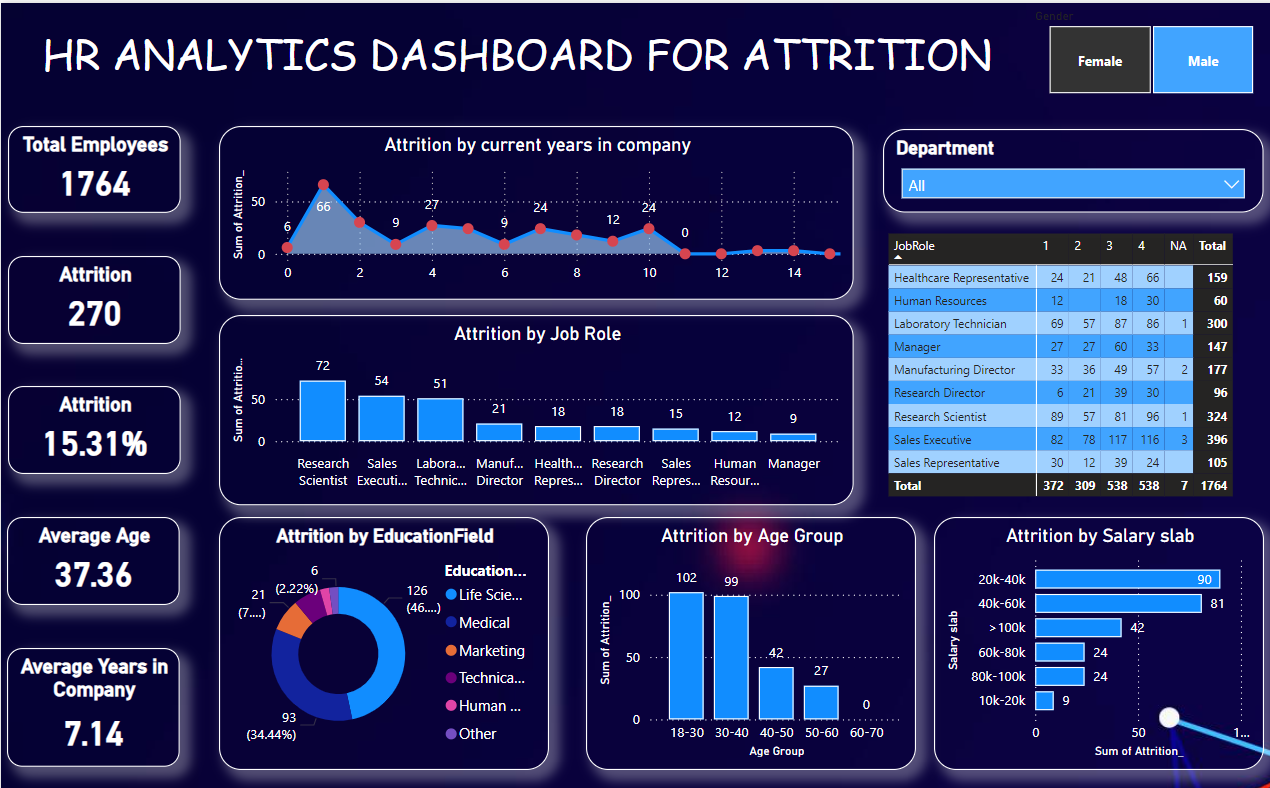

Layout of this report page (visuals, bound fields, positions):
{"tool":"powerbi","page":{"name":"Page 1","canvas":[1280,720],"ordinal":0},"visuals":[{"type":"card","title":"Total Employees","fields":{"Values":["Sum(Attrition data.EmployeeCount)"]},"box":[6.4,111.8,157.3,79.1],"z":0},{"type":"card","title":"Attrition","fields":{"Values":["Sum(Attrition data.Attrition_)"]},"box":[6.4,229.8,157.3,80],"z":1000},{"type":"card","title":"Attrition","fields":{"Values":["Attrition data.Attrition Percentage"]},"box":[6.4,348.6,157.3,80],"z":2000},{"type":"card","title":"Average Age","fields":{"Values":["Avg(Attrition data.Age)"]},"box":[5.5,467.5,157.3,80],"z":3000},{"type":"card","title":"Average Years in Company","fields":{"Values":["Avg(Attrition data.YearsAtCompany)"]},"box":[5.5,586.4,157.3,108.2],"z":4000},{"type":"donutChart","title":"Attrition by EducationField","fields":{"Y":["Sum(Attrition data.Attrition_)"],"Category":["Attrition data.EducationField"]},"box":[198.2,467.3,300,230],"z":5000},{"type":"clusteredColumnChart","title":"Attrition by Age Group","fields":{"Category":["Attrition data.Age Group"],"Y":["Sum(Attrition data.Attrition_)"]},"box":[531.8,467.3,300,230],"z":6000},{"type":"barChart","title":"Attrition by Salary slab","fields":{"Category":["Attrition data.Salary slab"],"Y":["Sum(Attrition data.Attrition_)"]},"box":[848.2,467.3,300,230],"z":7000},{"type":"clusteredColumnChart","title":"Attrition by Job Role","fields":{"Category":["Attrition data.JobRole"],"Y":["Sum(Attrition data.Attrition_)"]},"box":[198.2,283.6,577.3,172.7],"z":8000},{"type":"areaChart","title":"Attrition by current years in company","fields":{"Category":["Attrition data.YearsAtCompany"],"Y":["Sum(Attrition data.Attrition_)"]},"box":[198.2,111.8,577.3,158.2],"z":9000},{"type":"pivotTable","fields":{"Rows":["Attrition data.JobRole"],"Columns":["Attrition data.JobSatisfaction"],"Values":["Sum(Attrition data.EmployeeCount)"]},"box":[801.8,204.5,340.9,251.8],"z":10000},{"type":"slicer","title":"Department","fields":{"Values":["Attrition data.Department"]},"box":[801.8,114.5,346.4,76.4],"z":11000},{"type":"slicer","fields":{"Values":["Attrition data.Gender"]},"box":[927.3,0,235.5,89.1],"z":11001},{"type":"textbox","box":[20.9,14.5,896.4,84.5],"z":11002}]}

Visuals, with their boxes on the page's 1280x720 design canvas (x1, y1, x2, y2). These are canvas units, not pixel positions in the 1270x788 screenshot, which may show the page scaled, cropped or inside an application window:
"Total Employees" card: BBox(6, 112, 164, 191)
"Attrition" card: BBox(6, 230, 164, 310)
"Attrition" card: BBox(6, 349, 164, 429)
"Average Age" card: BBox(6, 468, 163, 548)
"Average Years in Company" card: BBox(6, 586, 163, 695)
"Attrition by EducationField" donutChart: BBox(198, 467, 498, 697)
"Attrition by Age Group" clusteredColumnChart: BBox(532, 467, 832, 697)
"Attrition by Salary slab" barChart: BBox(848, 467, 1148, 697)
"Attrition by Job Role" clusteredColumnChart: BBox(198, 284, 776, 456)
"Attrition by current years in company" areaChart: BBox(198, 112, 776, 270)
pivotTable - Attrition data.JobRole x Attrition data.JobSatisfaction: BBox(802, 204, 1143, 456)
"Department" slicer: BBox(802, 114, 1148, 191)
slicer - Attrition data.Gender: BBox(927, 0, 1163, 89)
textbox: BBox(21, 14, 917, 99)
